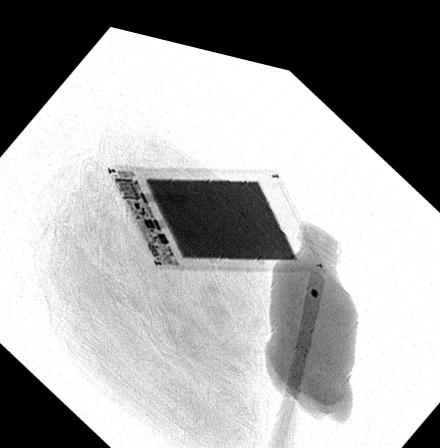Powerbank: (103, 154, 325, 259)
